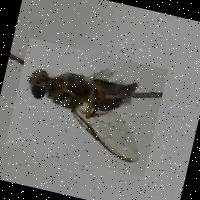Oriental-fruit-fly: (4, 36, 167, 175)
